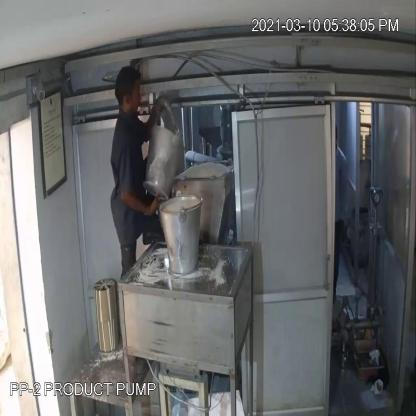no_glove: (119, 177, 166, 225)
